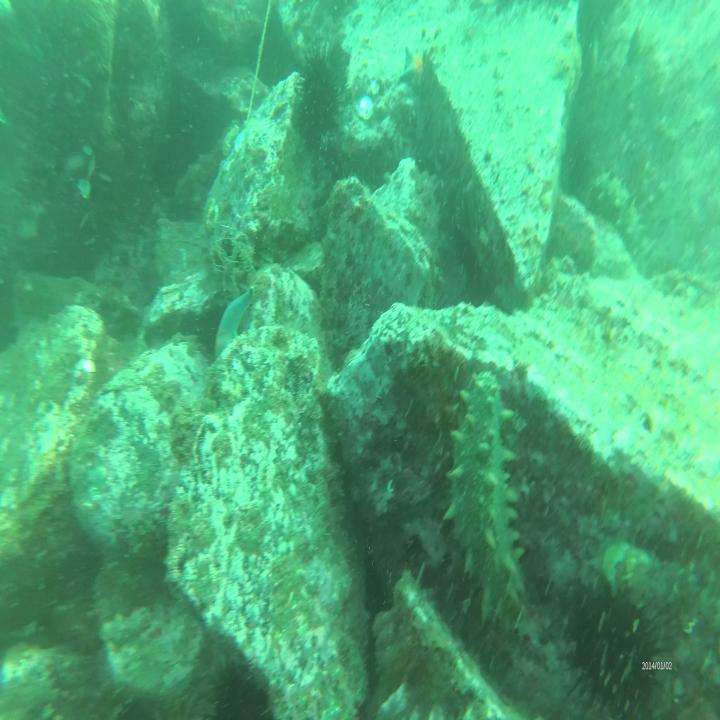echinus: (570, 577, 664, 720), (296, 44, 346, 144), (209, 653, 275, 720)
holothurian: (452, 363, 524, 602), (588, 164, 645, 250)
starfish: (209, 281, 256, 358), (394, 44, 426, 89)
